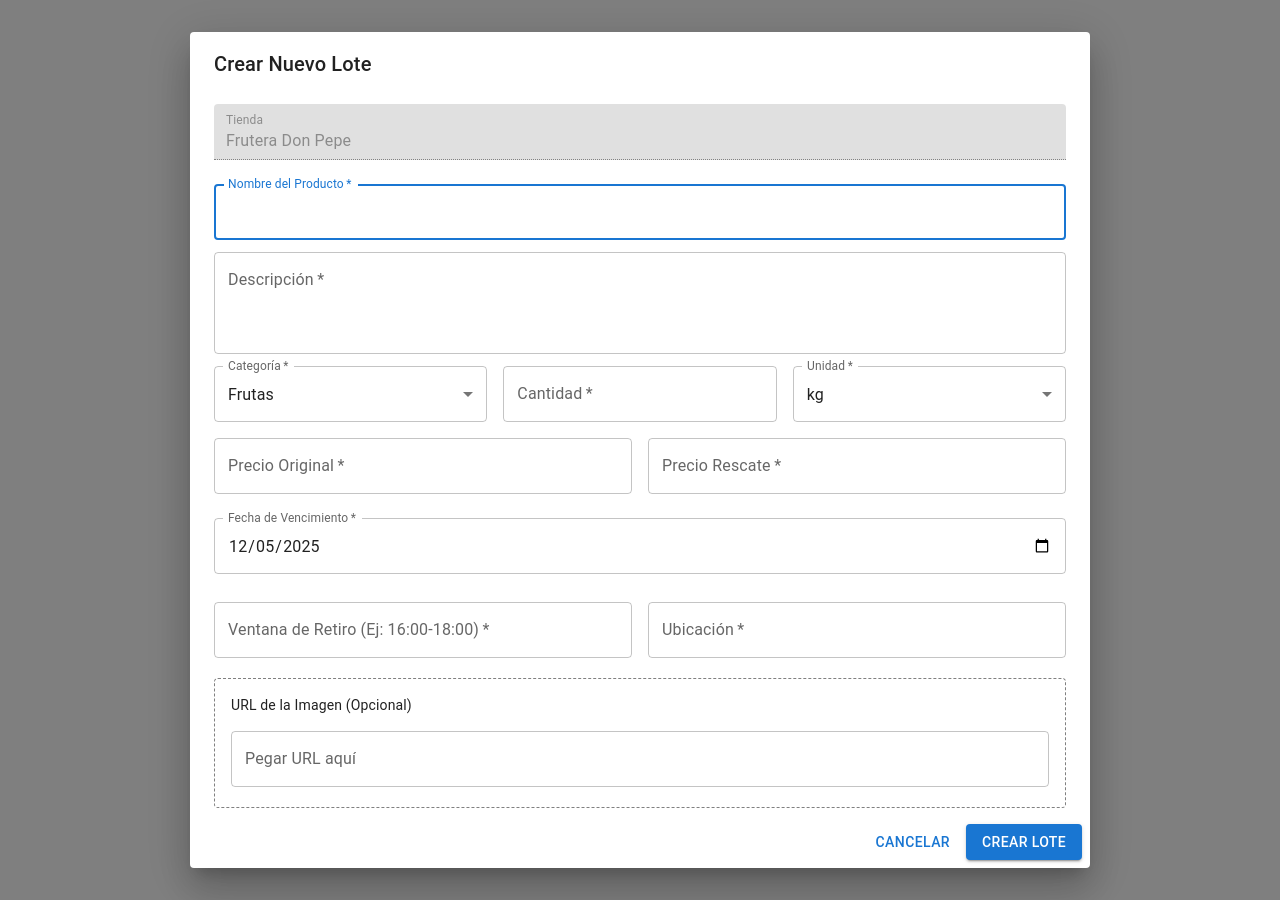
Scenario: Feature Create - LoteCreateDialog › muestra un error si se intenta crear con campos vacíos
Check: the field showing "Frutera Don Pepe" is shown, box left=214, top=104, right=1066, bottom=160
Click the button "Crear Lote" at (1024, 842), box left=966, top=824, right=1082, bottom=860
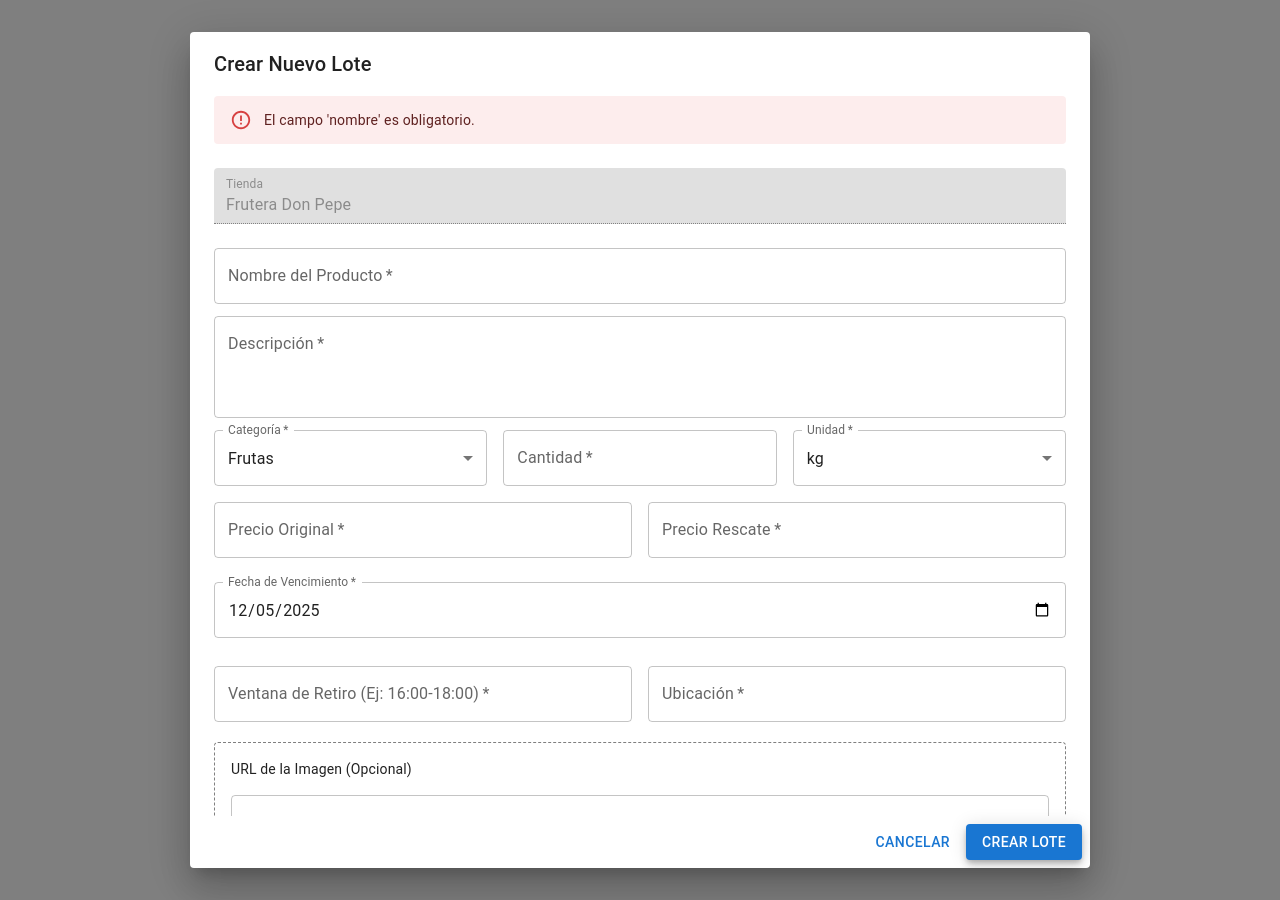
Check: the text "El campo 'nombre' es obligatorio." is shown, box left=264, top=112, right=475, bottom=128
